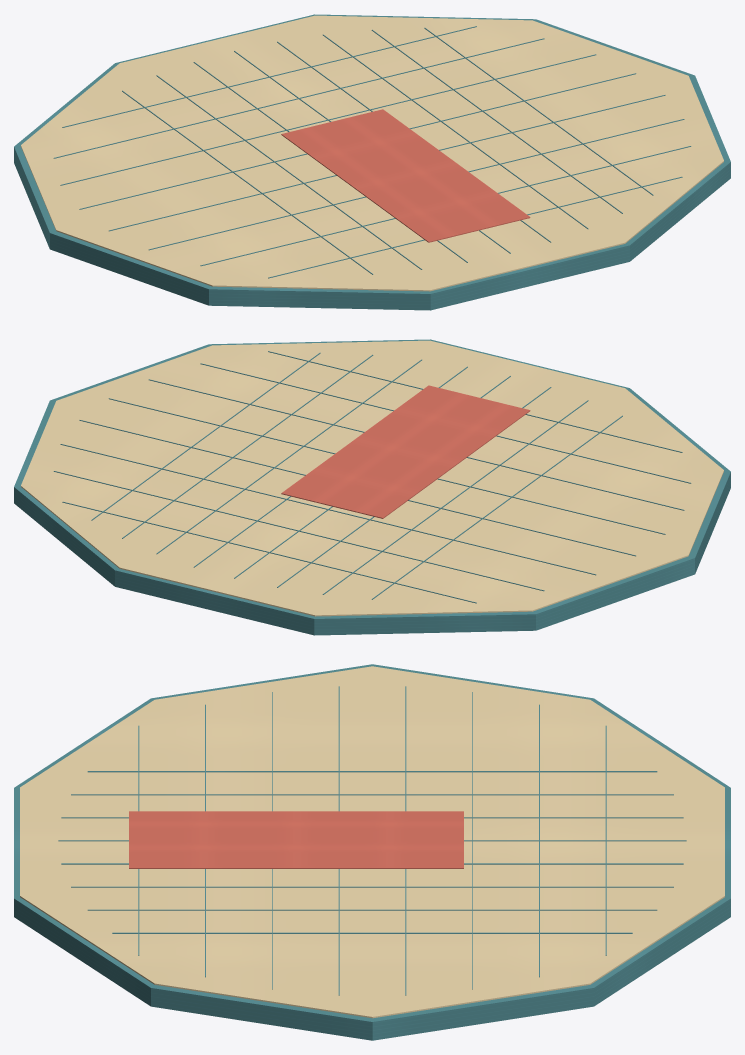
The model's file is atlas100-s071-a07.lod1.glb.
The picture shows the model from 3 angles, top to bottom: view 1: azimuth 30°, elevation 25°; view 2: azimuth 150°, elevation 25°; view 3: azimuth 270°, elevation 25°; orthographic projection. The views are drawn at different scales.
Parts seen in each view (by area): view 1: atlas100-s071-a07:part-001, atlas100-s071-a07:part-000, atlas100-s071-a07:part-021, atlas100-s071-a07:part-015, atlas100-s071-a07:part-014, atlas100-s071-a07:part-016, atlas100-s071-a07:part-017, atlas100-s071-a07:part-018, atlas100-s071-a07:part-013, atlas100-s071-a07:part-019, atlas100-s071-a07:part-009, atlas100-s071-a07:part-005 (+3 smaller); view 2: atlas100-s071-a07:part-001, atlas100-s071-a07:part-000, atlas100-s071-a07:part-021, atlas100-s071-a07:part-015, atlas100-s071-a07:part-014, atlas100-s071-a07:part-017, atlas100-s071-a07:part-016, atlas100-s071-a07:part-018, atlas100-s071-a07:part-013, atlas100-s071-a07:part-019, atlas100-s071-a07:part-020, atlas100-s071-a07:part-009 (+3 smaller); view 3: atlas100-s071-a07:part-001, atlas100-s071-a07:part-000, atlas100-s071-a07:part-021, atlas100-s071-a07:part-009, atlas100-s071-a07:part-005, atlas100-s071-a07:part-010, atlas100-s071-a07:part-004, atlas100-s071-a07:part-011.
Part boxes in pixels (bbox=[...]): atlas100-s071-a07:part-001: bbox=[21, 15, 723, 291]; atlas100-s071-a07:part-000: bbox=[14, 14, 730, 310]; atlas100-s071-a07:part-021: bbox=[281, 109, 530, 242]; atlas100-s071-a07:part-015: bbox=[60, 54, 596, 185]; atlas100-s071-a07:part-014: bbox=[53, 38, 544, 158]; atlas100-s071-a07:part-016: bbox=[79, 73, 636, 209]; atlas100-s071-a07:part-017: bbox=[109, 95, 665, 231]; atlas100-s071-a07:part-018: bbox=[148, 119, 684, 250]; atlas100-s071-a07:part-013: bbox=[62, 26, 476, 127]; atlas100-s071-a07:part-019: bbox=[200, 146, 691, 266]; atlas100-s071-a07:part-009: bbox=[323, 34, 588, 229]; atlas100-s071-a07:part-005: bbox=[156, 75, 422, 269]; atlas100-s071-a07:part-001: bbox=[21, 340, 723, 616]; atlas100-s071-a07:part-000: bbox=[14, 339, 730, 635]; atlas100-s071-a07:part-021: bbox=[281, 385, 530, 518]; atlas100-s071-a07:part-015: bbox=[60, 444, 596, 575]; atlas100-s071-a07:part-014: bbox=[53, 471, 544, 591]; atlas100-s071-a07:part-017: bbox=[108, 398, 665, 534]; atlas100-s071-a07:part-016: bbox=[79, 420, 635, 556]; atlas100-s071-a07:part-018: bbox=[148, 379, 684, 510]; atlas100-s071-a07:part-013: bbox=[62, 501, 476, 603]; atlas100-s071-a07:part-019: bbox=[200, 363, 691, 483]; atlas100-s071-a07:part-020: bbox=[268, 351, 682, 452]; atlas100-s071-a07:part-009: bbox=[156, 359, 421, 554]; atlas100-s071-a07:part-001: bbox=[20, 666, 724, 1018]; atlas100-s071-a07:part-000: bbox=[14, 664, 730, 1040]; atlas100-s071-a07:part-021: bbox=[129, 811, 463, 868]; atlas100-s071-a07:part-009: bbox=[71, 886, 673, 887]; atlas100-s071-a07:part-005: bbox=[71, 794, 673, 795]; atlas100-s071-a07:part-010: bbox=[87, 909, 657, 910]; atlas100-s071-a07:part-004: bbox=[87, 771, 657, 772]; atlas100-s071-a07:part-011: bbox=[112, 932, 632, 933].
Bounding box in the file's own units: 13.95 × 0.404 × 11.81.
3 materials, 3 textured.
